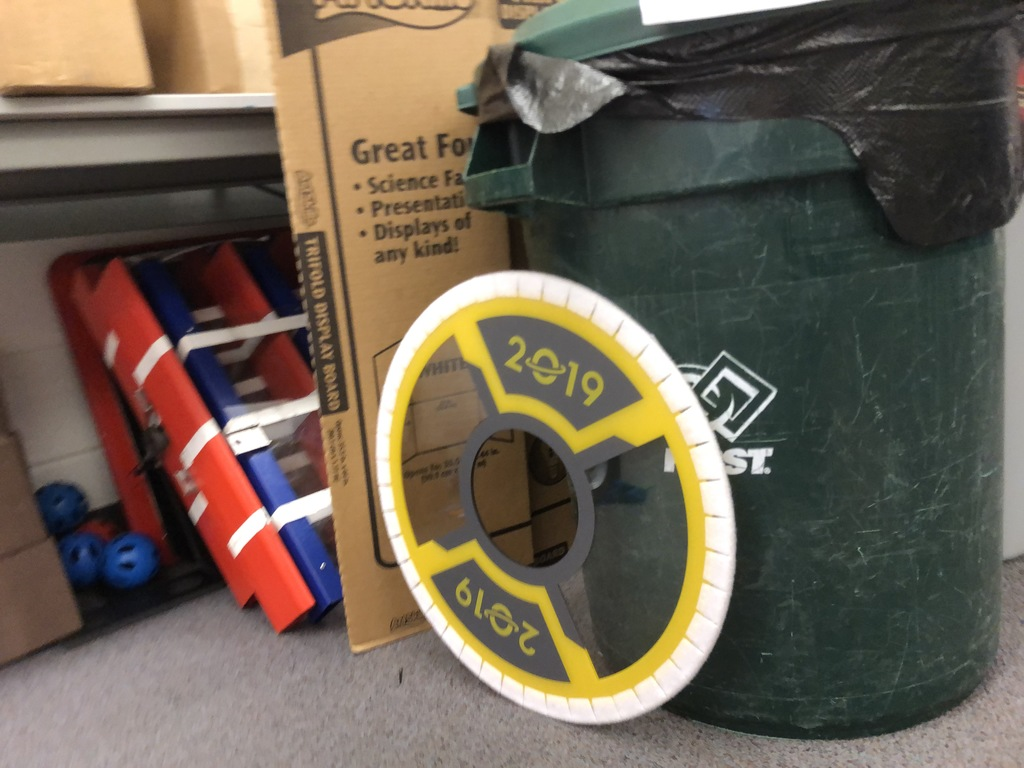hatch_panel: (354, 262, 760, 744)
